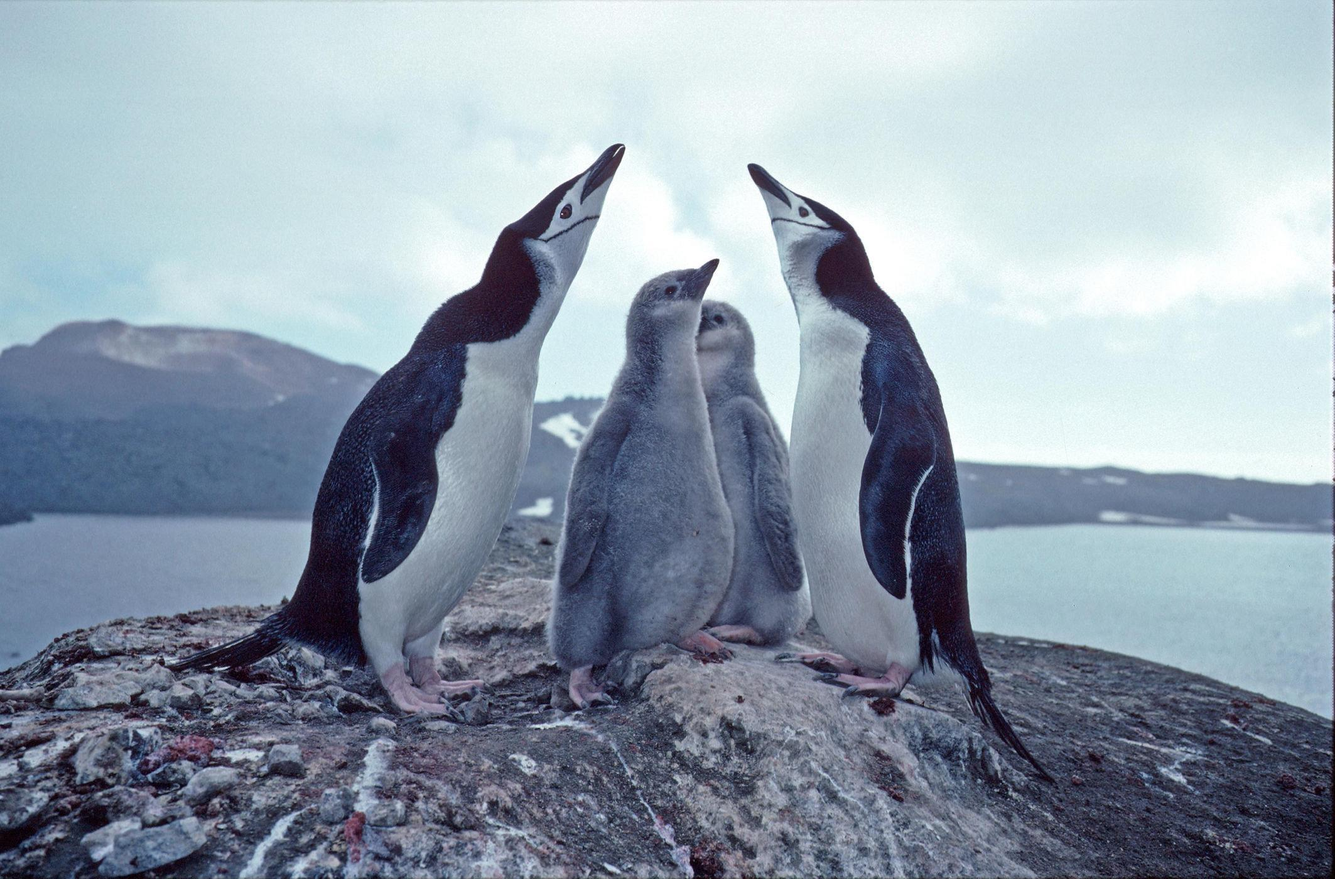Penguin: (172, 146, 623, 715), (749, 164, 1051, 779), (550, 261, 732, 706), (696, 300, 811, 644)
